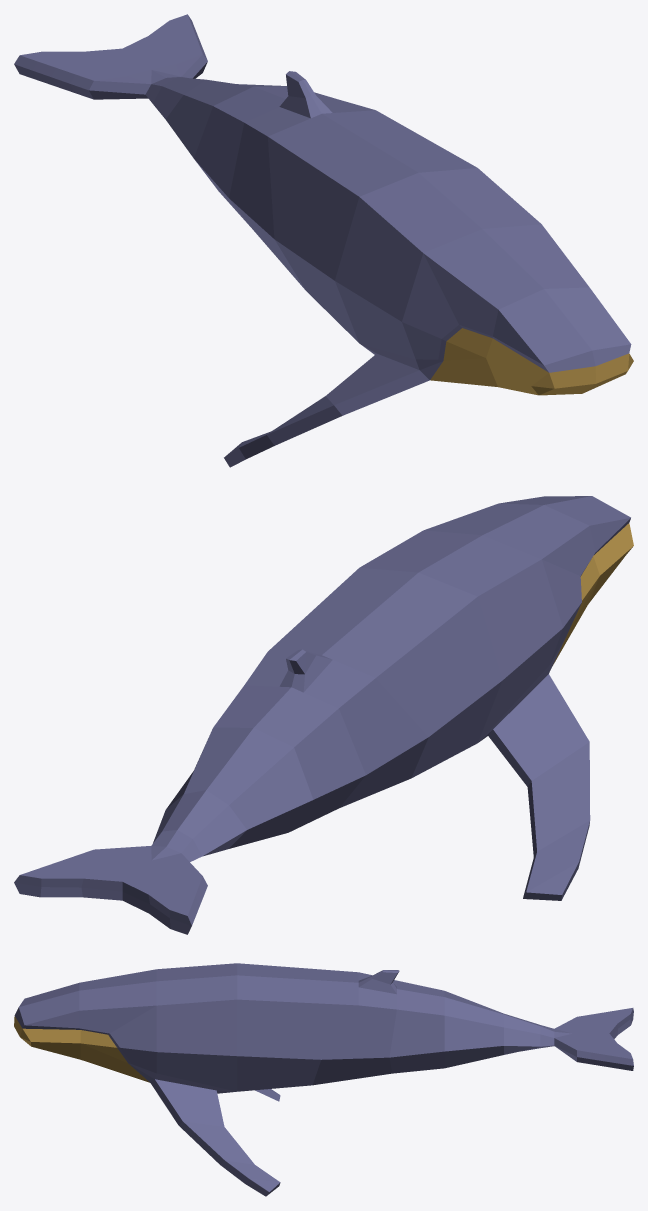
Rendered from whale.glb.
3 renders of one model, top to bottom at view 1: azimuth 30°, elevation 25°; view 2: azimuth 150°, elevation 25°; view 3: azimuth 270°, elevation 25°, orthographic. The views are drawn at different scales.
Visible parts, largest first — view 1: Whale; view 2: Whale; view 3: Whale.
Part boxes in pixels (x1,y1,x2,y2): Whale: (14, 14, 633, 467); Whale: (14, 496, 633, 934); Whale: (14, 963, 633, 1196).
Size of the model in its own units: 4.06 by 3.19 by 10.19.
